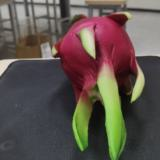pitaya: (61, 13, 143, 125)
